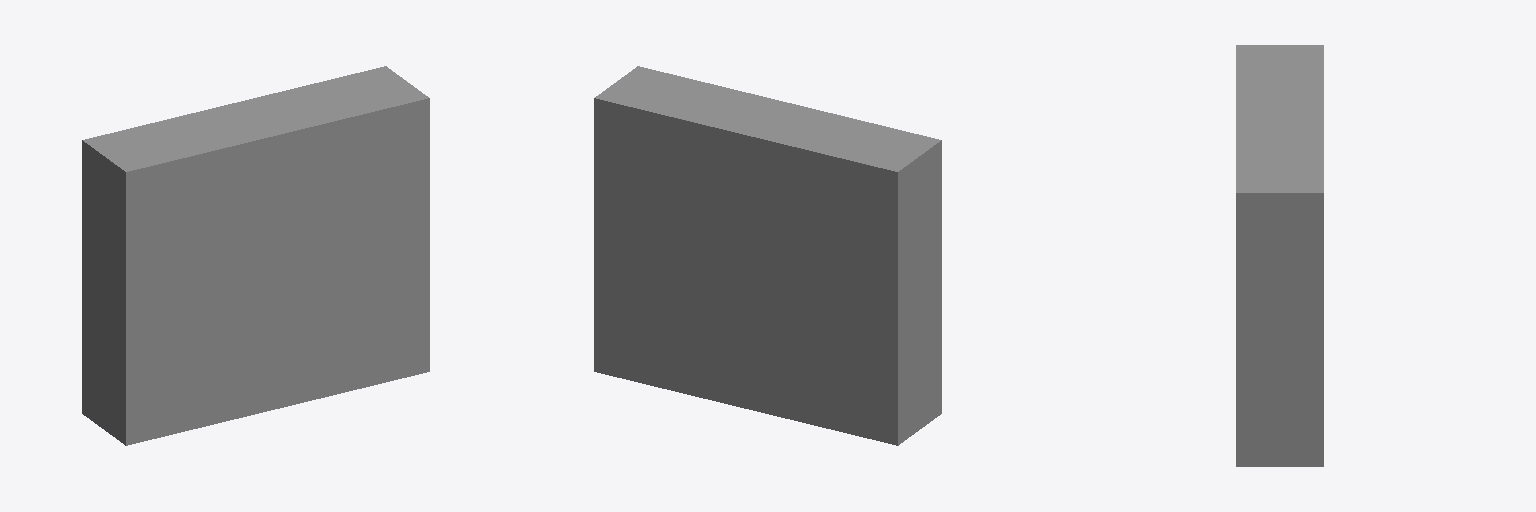
The model's file is objectModel.obj.
The picture shows the model from 3 angles: view 1: azimuth 30°, elevation 25°; view 2: azimuth 150°, elevation 25°; view 3: azimuth 270°, elevation 25°; orthographic projection.
Bounding box in the file's own units: 0.144 × 0.124 × 0.036.